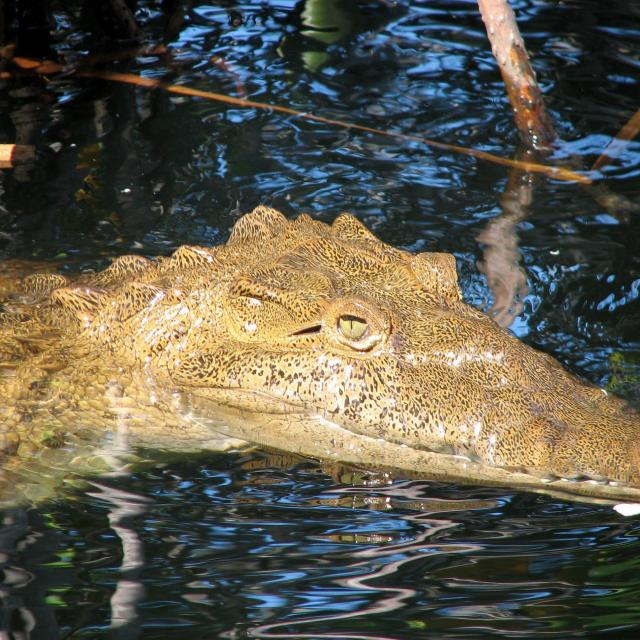crocodile: (0, 199, 640, 510)
